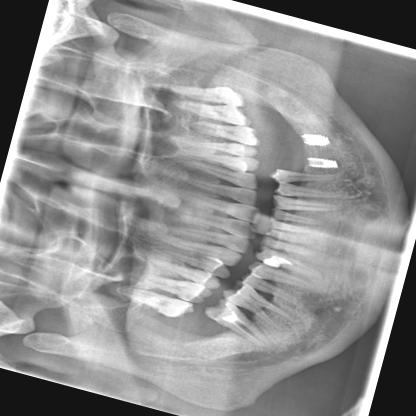Bicon: (295, 131, 333, 148), (302, 154, 344, 168)
